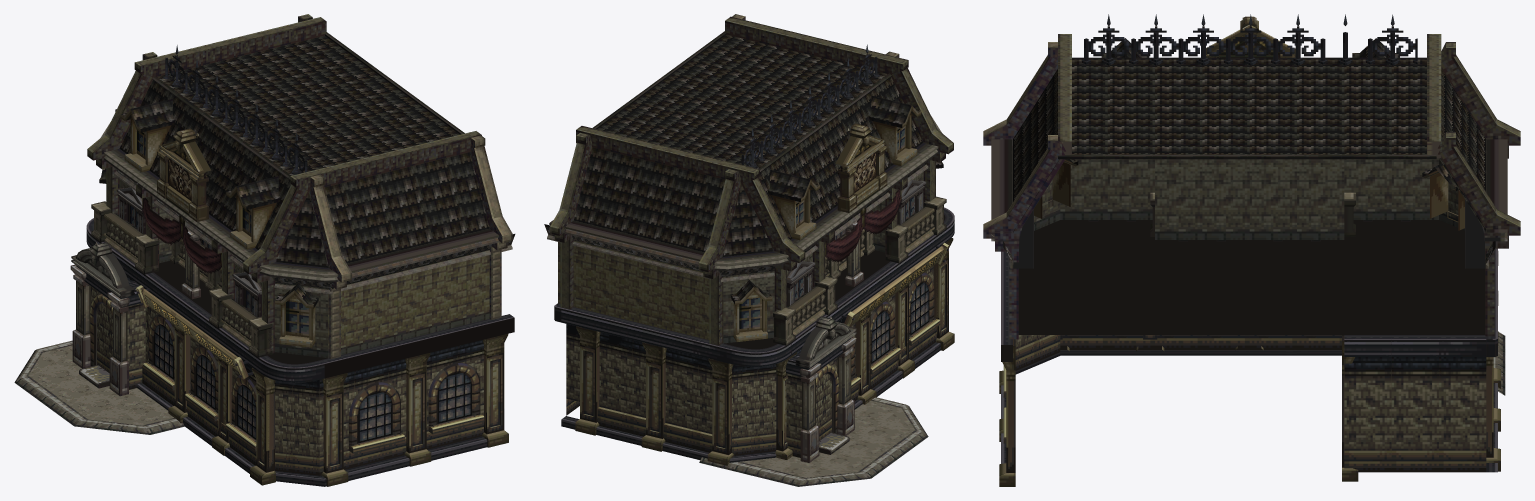
Rendered from EnvBdgMD_City_B_Outdoor_Theater_A.FBX.
The picture shows the model from 3 angles, left to right: view 1: azimuth 30°, elevation 25°; view 2: azimuth 150°, elevation 25°; view 3: azimuth 270°, elevation 25°; orthographic projection. The views are drawn at different scales.
Visible parts, largest first — view 1: EnvBdgMD_City_B_Outdoor_Theater_A; view 2: EnvBdgMD_City_B_Outdoor_Theater_A; view 3: EnvBdgMD_City_B_Outdoor_Theater_A.
Boxes of the visible parts, <box> form: EnvBdgMD_City_B_Outdoor_Theater_A: <box>14,14,515,486</box>; EnvBdgMD_City_B_Outdoor_Theater_A: <box>544,14,954,486</box>; EnvBdgMD_City_B_Outdoor_Theater_A: <box>983,14,1520,486</box>.
Bounding box in the file's own units: 920 × 879 × 1136.
Materials: 1 (1 with a texture image).
